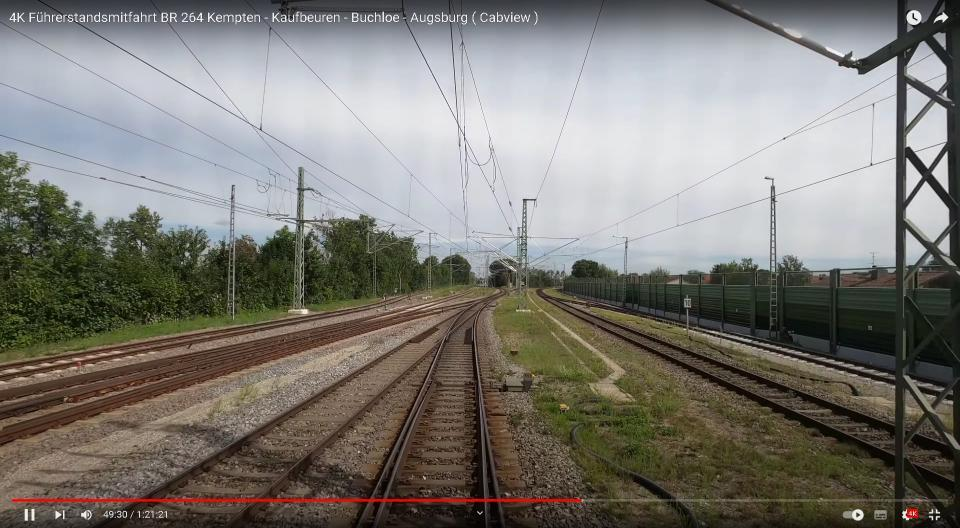Plant: (650, 389, 865, 485), (542, 306, 679, 396), (232, 384, 260, 406), (511, 415, 521, 426)
